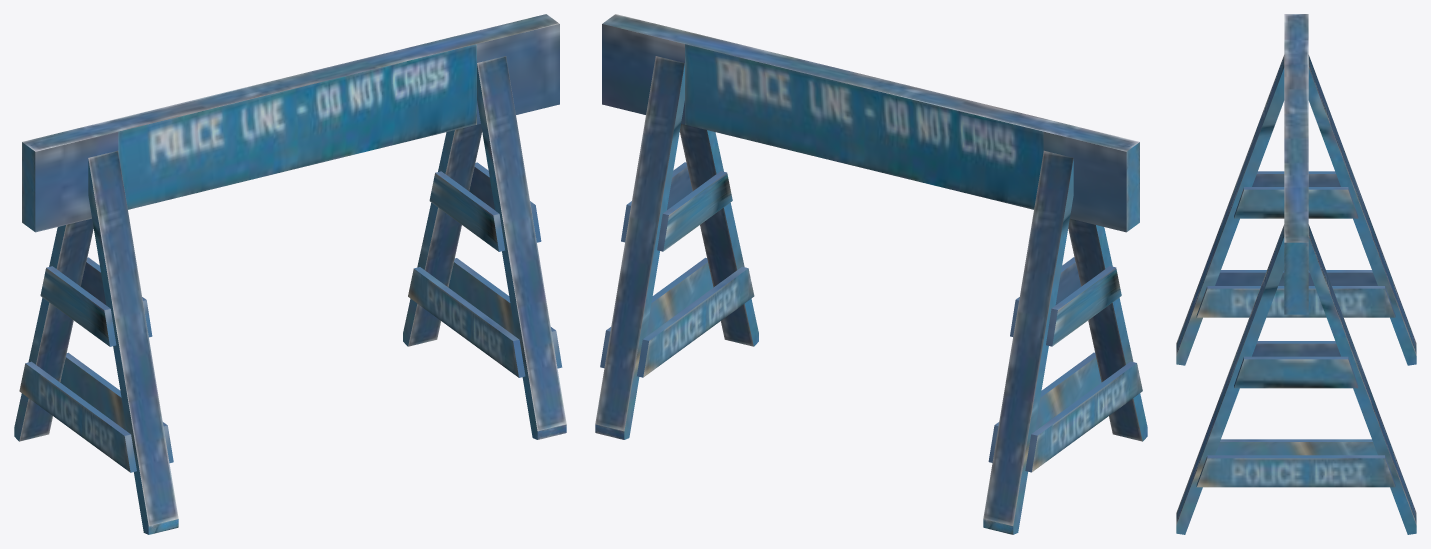
Rendered from police_barrier.FBX.
3 views of the same model, side by side, from view 1: azimuth 30°, elevation 25°; view 2: azimuth 150°, elevation 25°; view 3: azimuth 270°, elevation 25° (orthographic). The views are drawn at different scales.
Visible parts, largest first — view 1: police_barrier; view 2: police_barrier; view 3: police_barrier.
Part boxes in pixels (left/top/right/bottom): police_barrier: left=14, top=14, right=566, bottom=534; police_barrier: left=595, top=14, right=1147, bottom=534; police_barrier: left=1176, top=14, right=1416, bottom=534.
Size of the model in its own units: 85.12 by 54.79 by 37.82.
